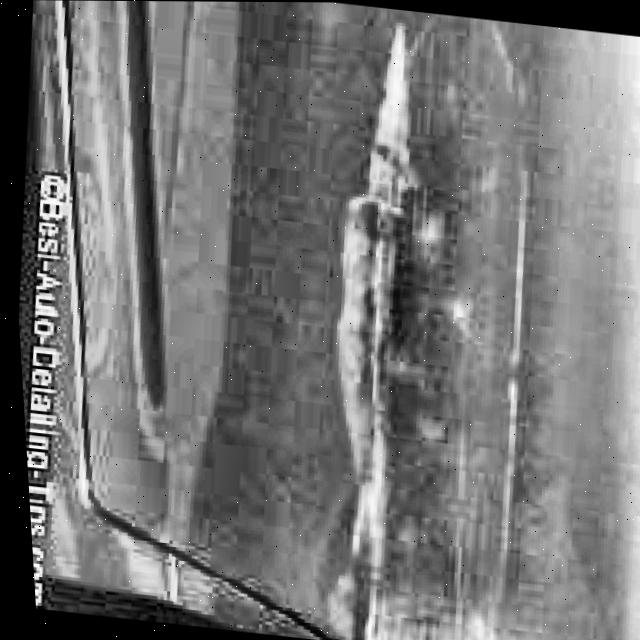door_scratch: (263, 39, 585, 640)
